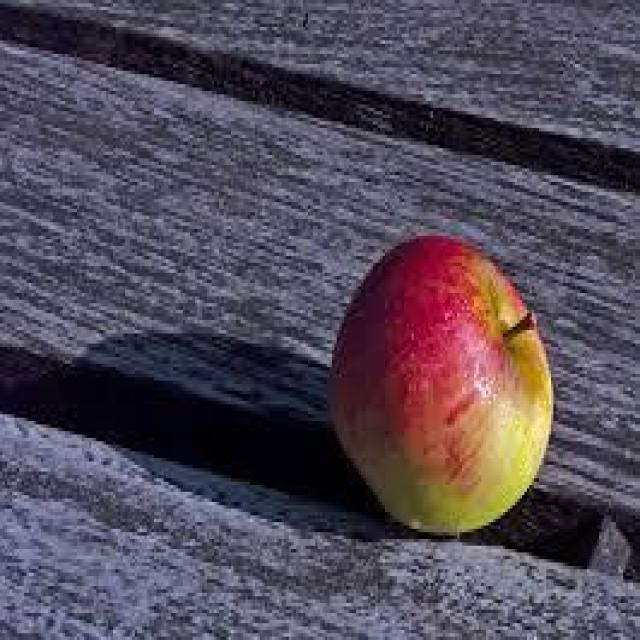maca: (325, 229, 553, 536)
